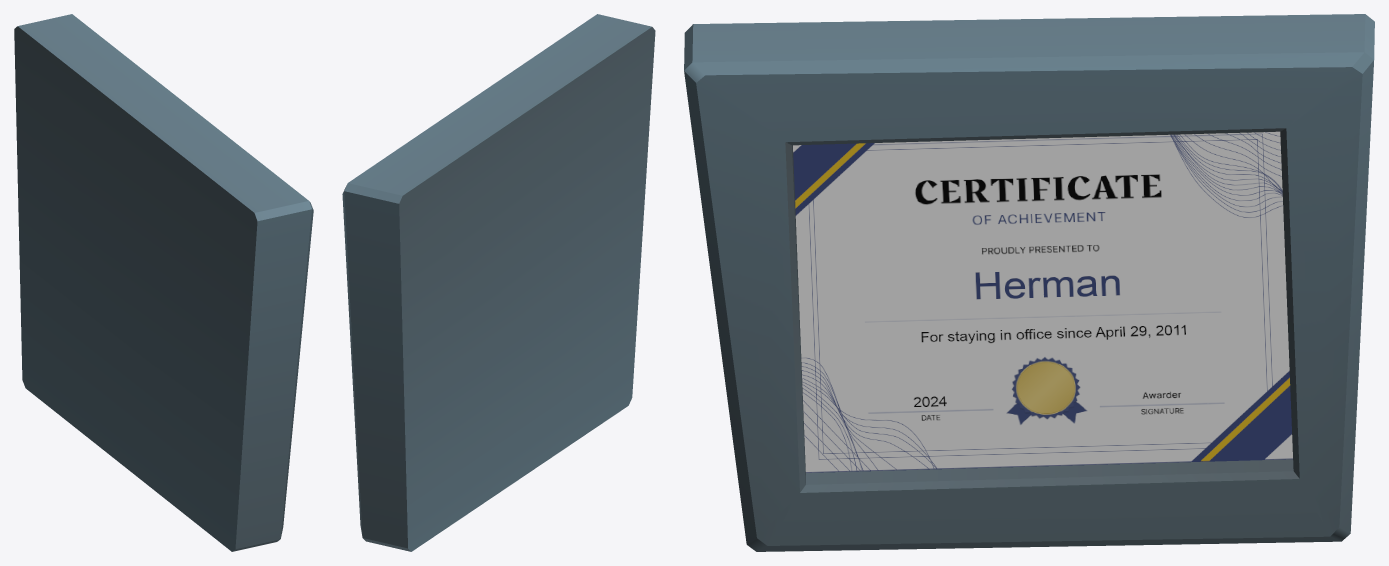
File: SM_Wall_Certificate.fbx
3 renders of one model, left to right at view 1: azimuth 30°, elevation 25°; view 2: azimuth 150°, elevation 25°; view 3: azimuth 270°, elevation 25°, orthographic. The views are drawn at different scales.
Visible parts, largest first — view 1: SM_Wall_Certificate1; view 2: SM_Wall_Certificate1; view 3: SM_Wall_Certificate1.
Part boxes in pixels (x1,y1,x2,y2): SM_Wall_Certificate1: [14, 14, 313, 551]; SM_Wall_Certificate1: [342, 14, 655, 551]; SM_Wall_Certificate1: [684, 14, 1374, 551].
Bounding box in the file's own units: 10.53 × 57.07 × 70.07.
2 materials, 2 textured.
